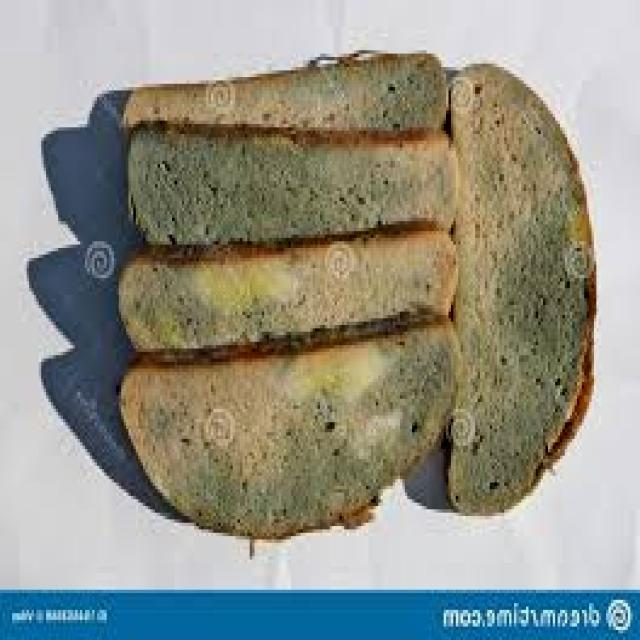wet: (96, 58, 604, 543)
